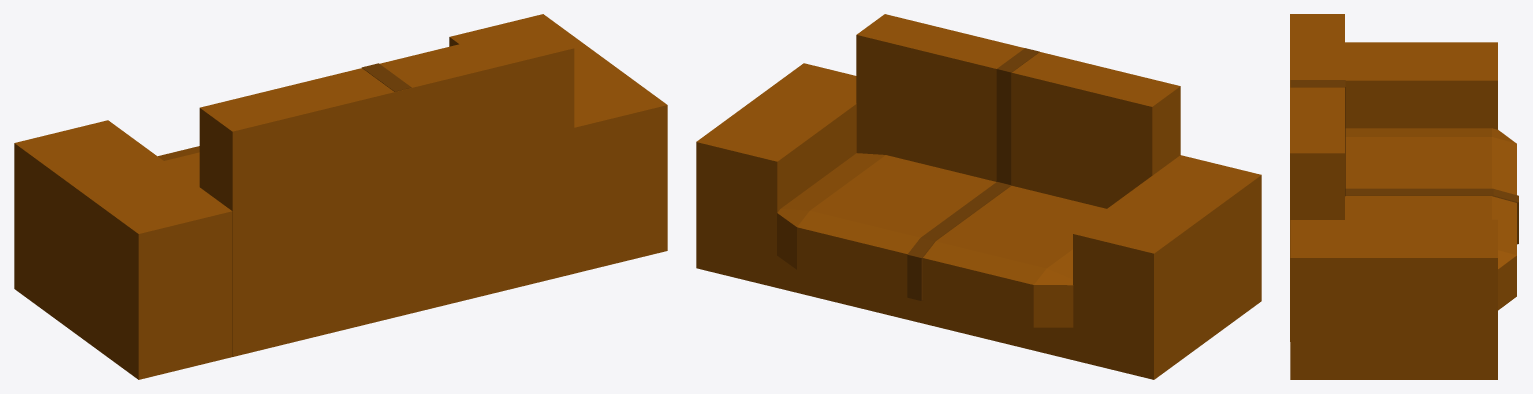
File: couch.glb
The picture shows the model from 3 angles, left to right: view 1: azimuth 30°, elevation 25°; view 2: azimuth 150°, elevation 25°; view 3: azimuth 270°, elevation 25°; orthographic projection. The views are drawn at different scales.
Visible parts, largest first — view 1: block (×4), block_bevel; view 2: block (×5), block_bevel (×2); view 3: block (×4), block_bevel (×2).
Boxes of the visible parts, box(x1,y1,x2,y2) form: block (×4): box(14, 14, 667, 379); block_bevel: box(158, 146, 199, 186); block (×5): box(696, 14, 1261, 379); block_bevel (×2): box(777, 153, 1106, 327); block (×4): box(1290, 14, 1497, 379); block_bevel (×2): box(1345, 128, 1518, 310).
Bounding box in the file's own units: 2.46 × 1 × 1.1.
